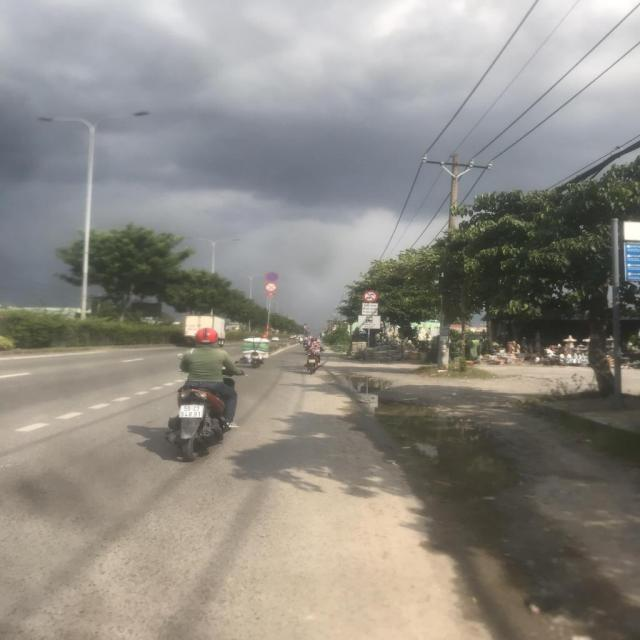cam_dung_xe_va_do_xe: (264, 272, 280, 282)
cam_o_to_tai_va_xe_khach: (362, 290, 379, 302)
cam_xe_2_banh_va_xe_3_banh_co_dong_co: (264, 282, 277, 292)
khac: (357, 315, 381, 328), (362, 303, 377, 315)
